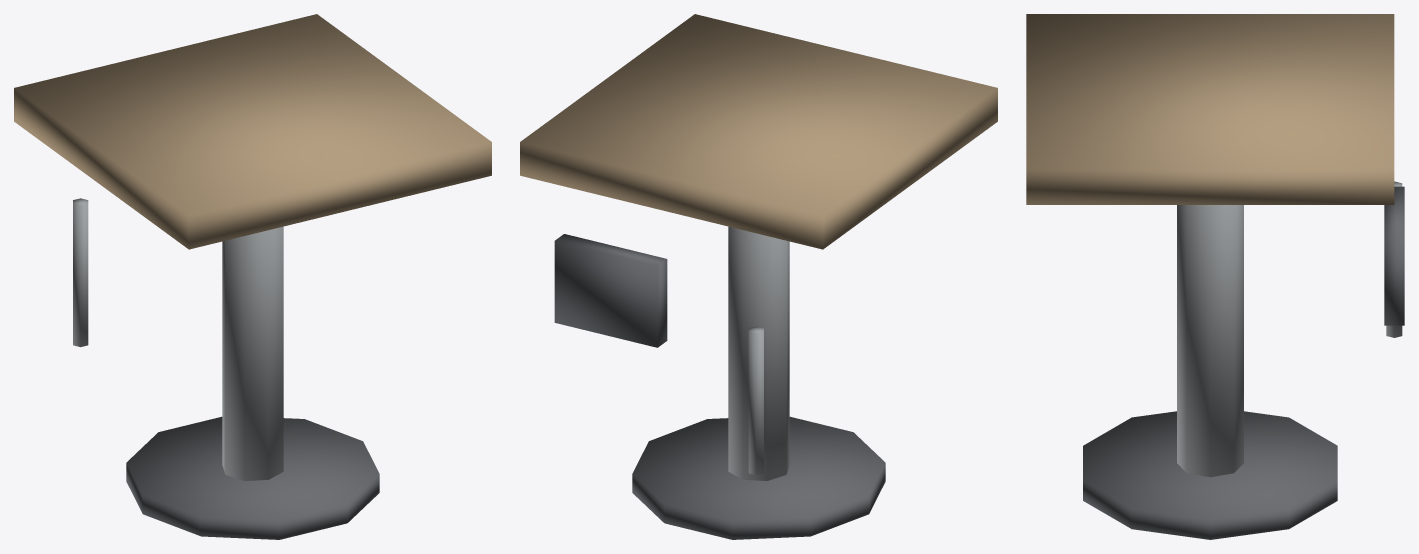
File: cafe_pedestal_table__service.glb
The picture shows the model from 3 angles, left to right: view 1: azimuth 30°, elevation 25°; view 2: azimuth 150°, elevation 25°; view 3: azimuth 270°, elevation 25°; orthographic projection. The views are drawn at different scales.
Parts seen in each view (by area): view 1: world; view 2: world; view 3: world.
Part boxes in pixels (x1,y1,x2,y2): world: (14, 14, 491, 539); world: (520, 14, 997, 539); world: (1026, 14, 1404, 539).
Size of the model in its own units: 0.66 by 0.775 by 0.6781.
